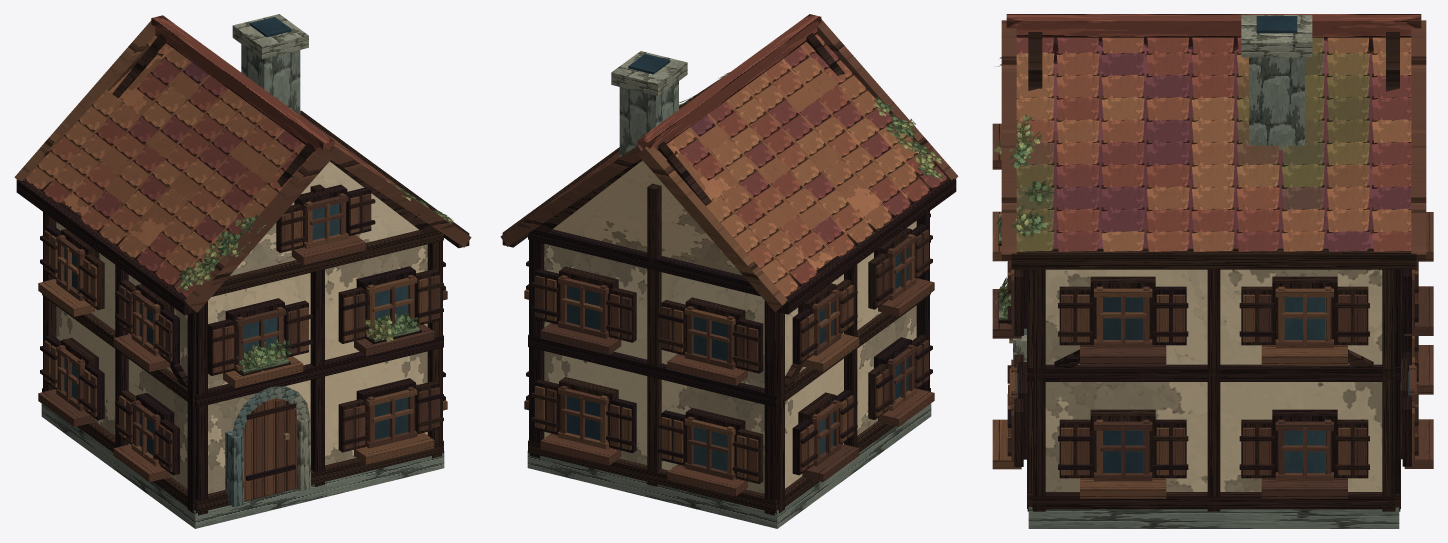
Rendered from back_house.glb.
3 renders of one model, left to right at view 1: azimuth 30°, elevation 25°; view 2: azimuth 150°, elevation 25°; view 3: azimuth 270°, elevation 25°, orthographic. The views are drawn at different scales.
Visible parts, largest first — view 1: back_house; view 2: back_house; view 3: back_house.
Part boxes in pixels (<box>): back_house: <box>14,14,471,528</box>; back_house: <box>500,14,958,528</box>; back_house: <box>992,14,1433,528</box>.
Size of the model in its own units: 3.57 by 4.39 by 3.83.
Materials: 6 (6 with a texture image).
